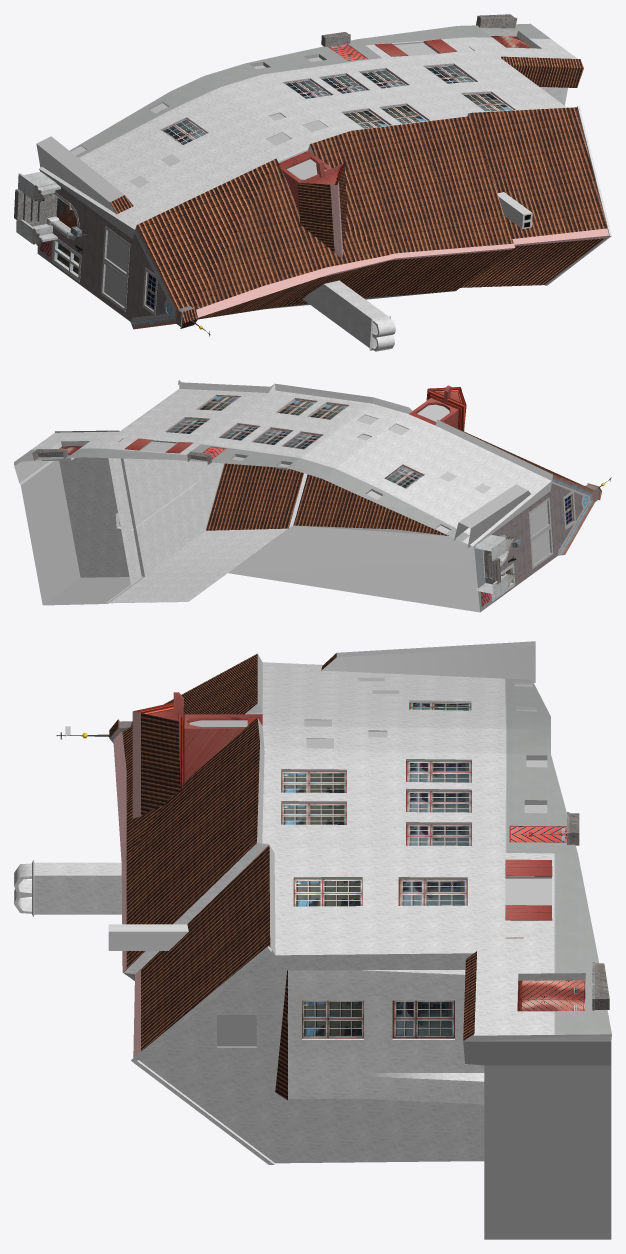
The model's file is Raekoja_plats_12.obj.
The picture shows the model from 3 angles, top to bottom: view 1: azimuth 30°, elevation 25°; view 2: azimuth 150°, elevation 25°; view 3: azimuth 270°, elevation 25°; orthographic projection. The views are drawn at different scales.
Parts seen in each view (by area): view 1: Raekoja_plats_12; view 2: Raekoja_plats_12; view 3: Raekoja_plats_12.
Part boxes in pixels (x1,y1,x2,y2): Raekoja_plats_12: [14, 14, 611, 351]; Raekoja_plats_12: [14, 380, 611, 612]; Raekoja_plats_12: [14, 641, 611, 1239].
Size of the model in its own units: 27.76 by 11.1 by 18.76.
